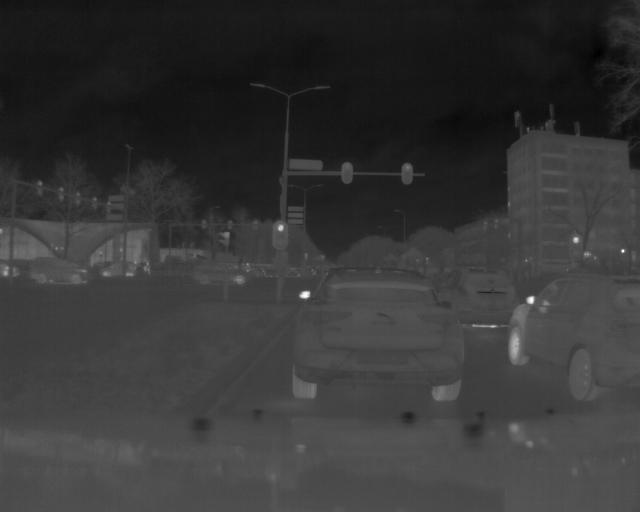car: (293, 264, 466, 408), (508, 278, 640, 399), (28, 251, 93, 288), (190, 254, 249, 289)
